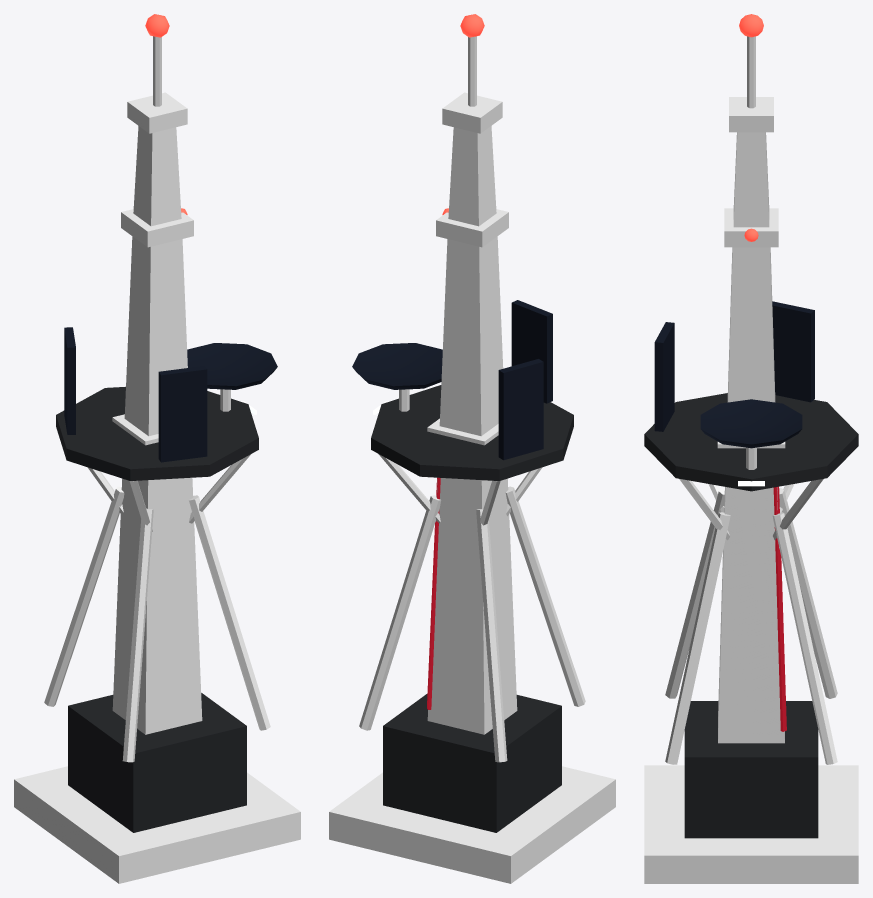
The model's file is comm_spire_b.gltf.
3 renders of one model, left to right at view 1: azimuth 30°, elevation 25°; view 2: azimuth 150°, elevation 25°; view 3: azimuth 270°, elevation 25°, orthographic.
Parts seen in each view (by area): view 1: gun, graphite, plate, steel, detail_plate, detail_gun; view 2: gun, graphite, plate, steel, detail_plate, detail_gun, seam; view 3: gun, graphite, plate, detail_plate, steel, detail_gun, seam, red.
Boxes of the visible parts, left/top/right/bottom form: gun: left=14, top=36, right=300, bottom=883; graphite: left=56, top=386, right=258, bottom=832; plate: left=64, top=327, right=207, bottom=462; steel: left=112, top=92, right=193, bottom=445; detail_plate: left=187, top=343, right=277, bottom=389; detail_gun: left=88, top=389, right=250, bottom=531; gun: left=329, top=36, right=615, bottom=883; graphite: left=371, top=385, right=573, bottom=832; plate: left=498, top=300, right=552, bottom=460; steel: left=427, top=92, right=508, bottom=445; detail_plate: left=352, top=343, right=442, bottom=389; detail_gun: left=378, top=389, right=542, bottom=531; seam: left=427, top=477, right=440, bottom=709; gun: left=644, top=36, right=858, bottom=883; graphite: left=644, top=393, right=858, bottom=838; plate: left=654, top=301, right=814, bottom=431; detail_plate: left=700, top=399, right=802, bottom=448; steel: left=717, top=97, right=785, bottom=448; detail_gun: left=679, top=447, right=823, bottom=540; seam: left=773, top=486, right=786, bottom=731; red: left=739, top=14, right=763, bottom=241.
Size of the model in its own units: 2.7 by 10.2 by 2.4.
